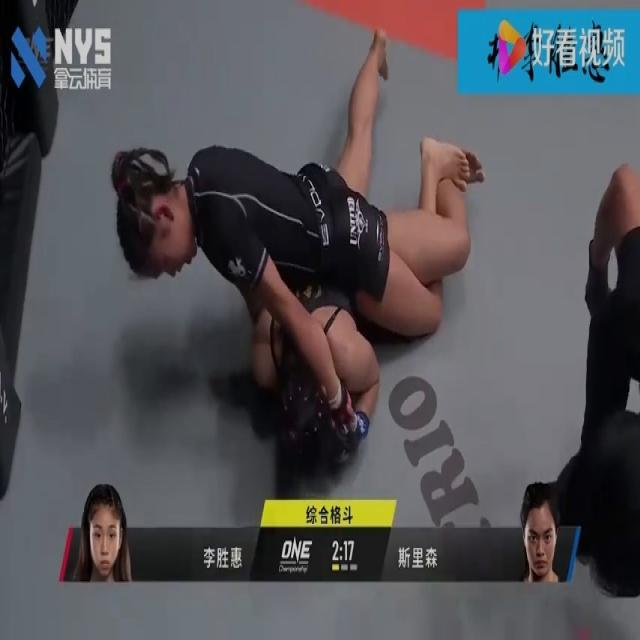fight: (111, 28, 486, 496)
